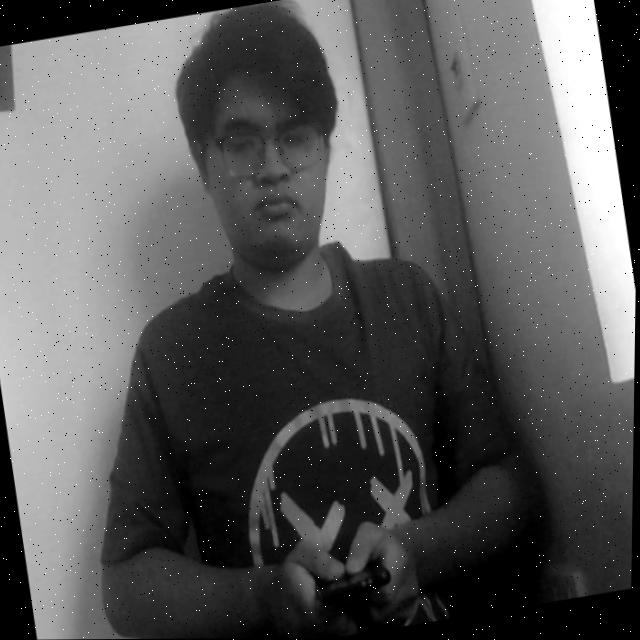phone: (294, 529, 403, 637)
